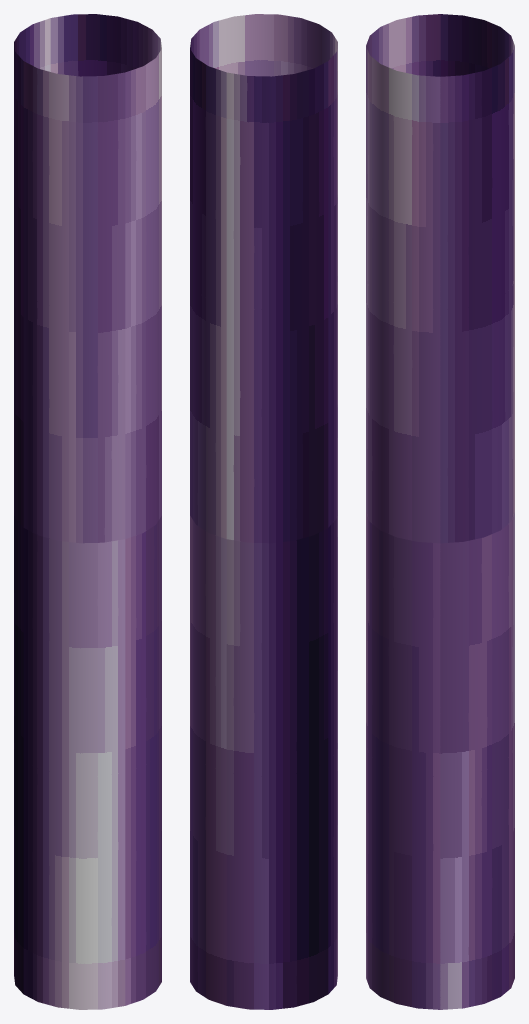
File: effect005_01.FBX
The picture shows the model from 3 angles, left to right: view 1: azimuth 30°, elevation 25°; view 2: azimuth 150°, elevation 25°; view 3: azimuth 270°, elevation 25°; orthographic projection.
Visible parts, largest first — view 1: Cone001; view 2: Cone001; view 3: Cone001.
Part boxes in pixels (box(x1,y1,x2,y2)): Cone001: box(14, 14, 161, 1009); Cone001: box(190, 14, 337, 1009); Cone001: box(366, 14, 514, 1009).
Bounding box in the file's own units: 71.6 × 496 × 71.6.
